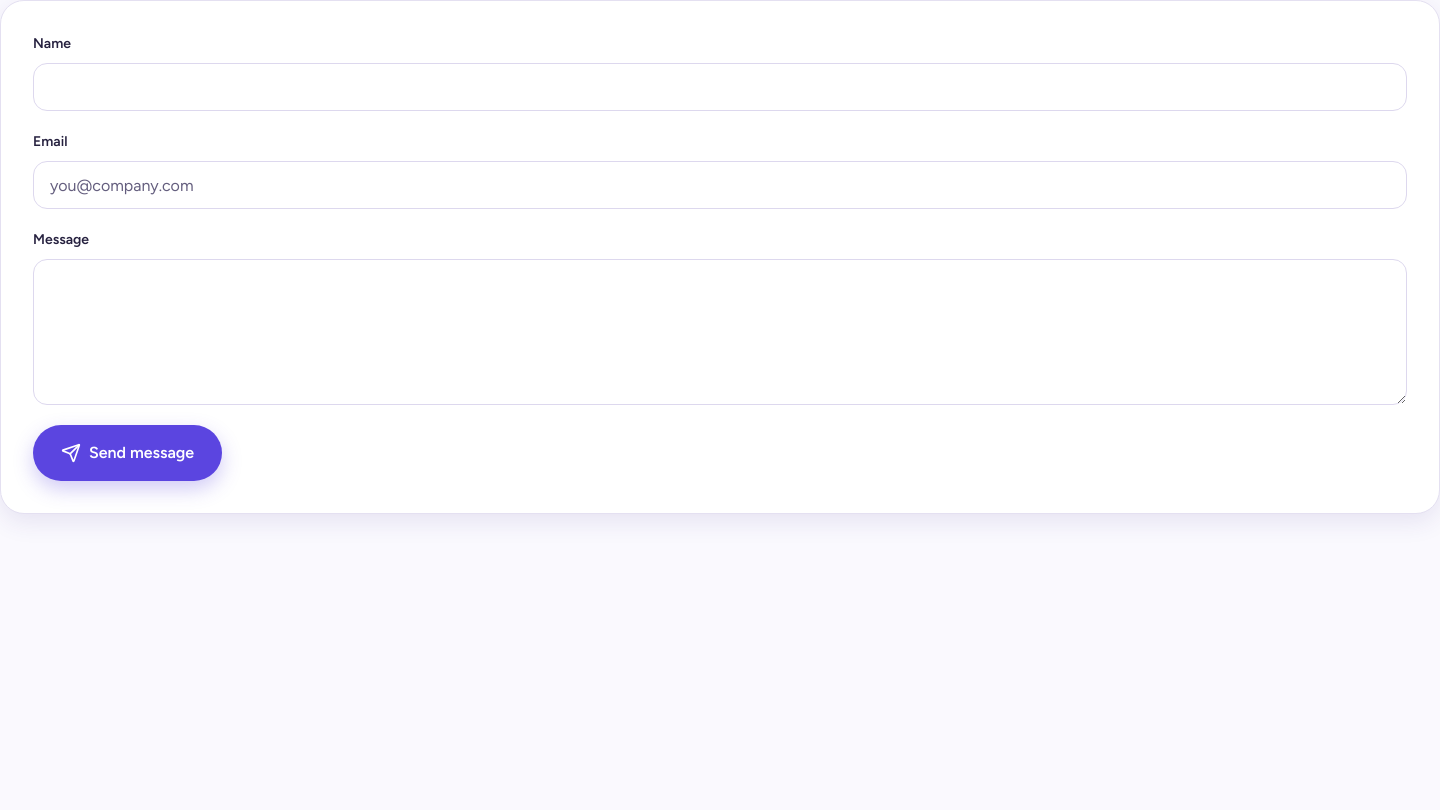
Test case: ContactForm failure notice › uses the server's own words, with no address, when the fuse is blown
In the field labelled "Name": (720, 87) top-left (33, 63), bottom-right (1407, 111), type "Ada"
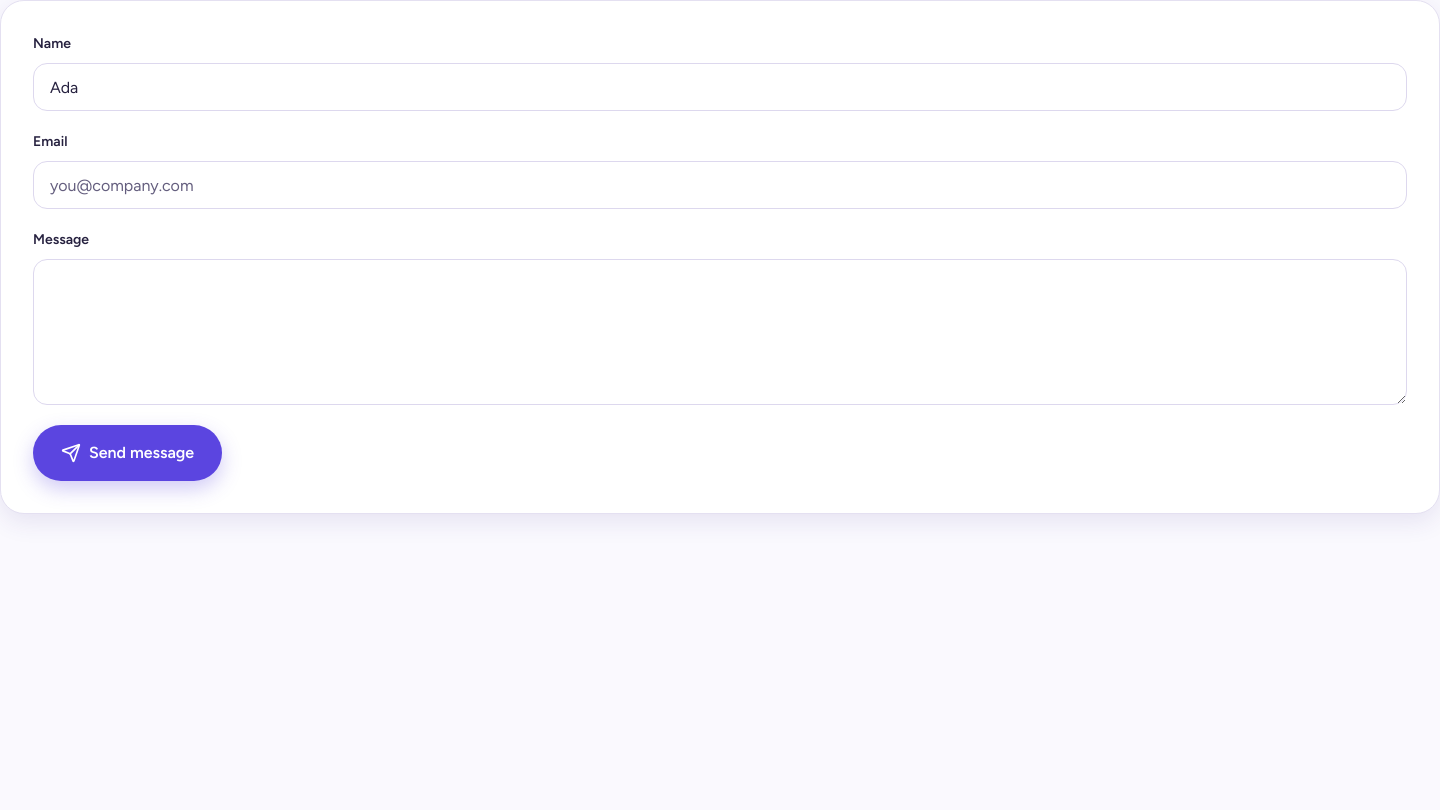
Press x in the field labelled "Name", box top-left (33, 63), bottom-right (1407, 111)
In the field labelled "Email": (720, 185) top-left (33, 161), bottom-right (1407, 209), type "ada@example.com"
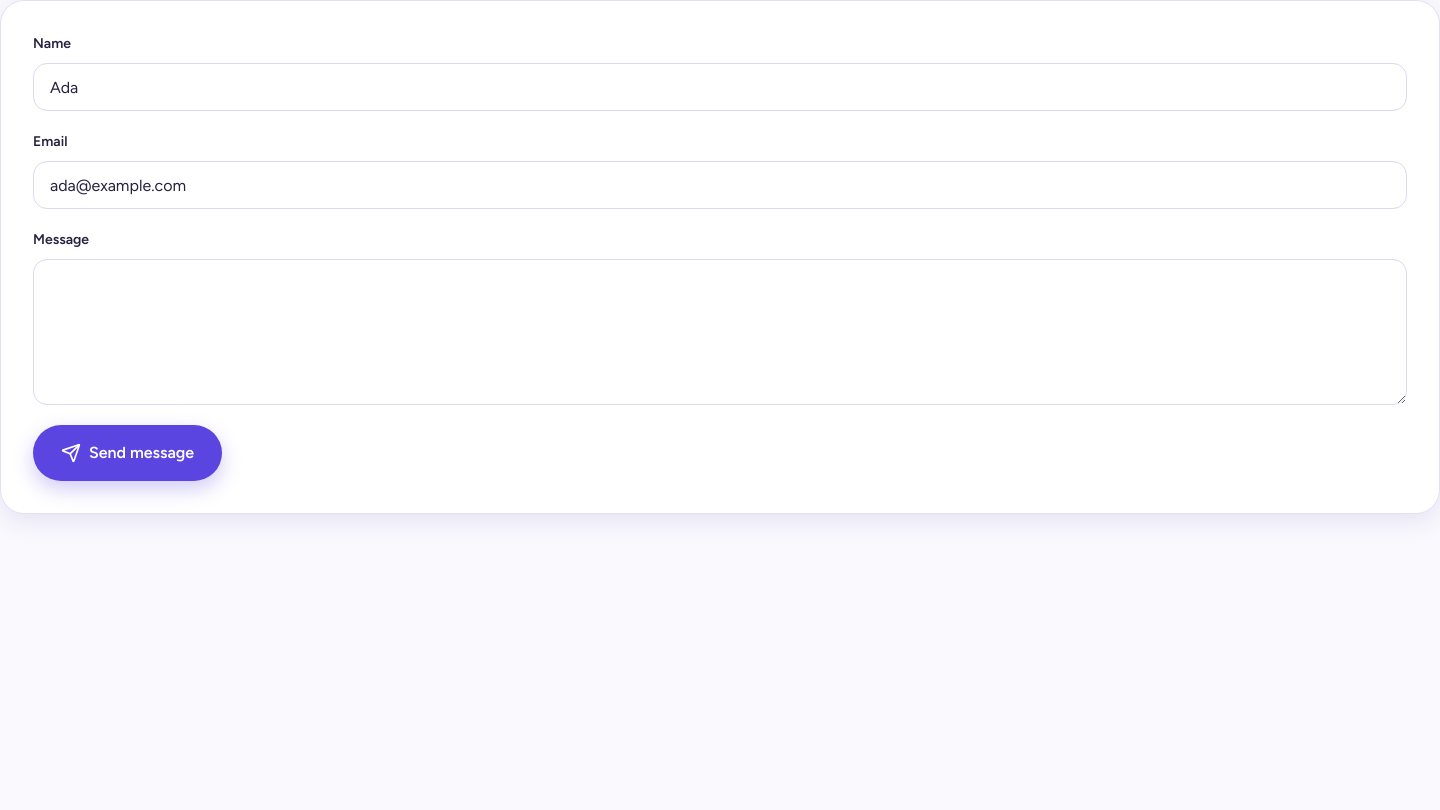
Press x in the field labelled "Email", box top-left (33, 161), bottom-right (1407, 209)
In the text box labelled "Message": (720, 332) top-left (33, 259), bottom-right (1407, 405), type "Hello there"
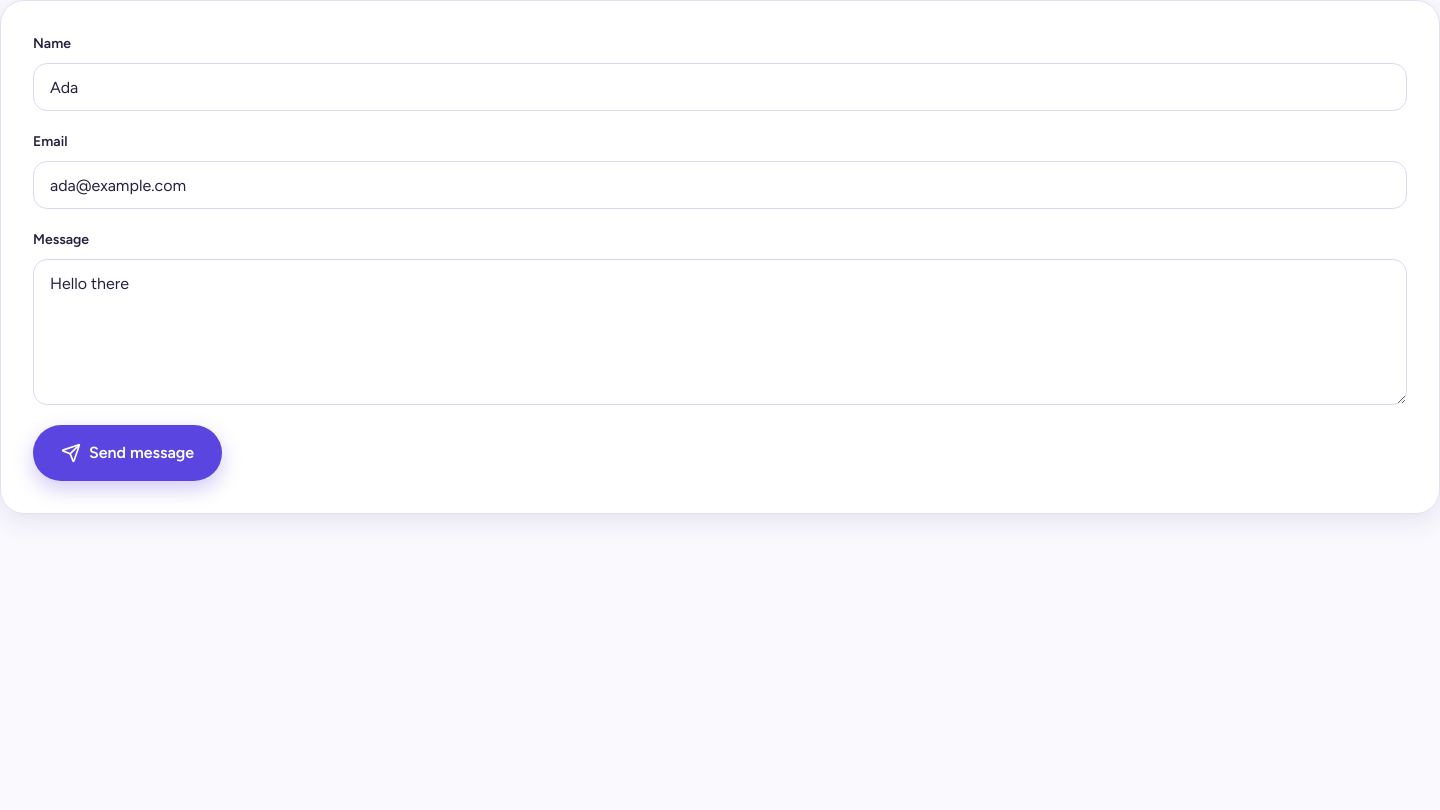
Press x in the text box labelled "Message", box top-left (33, 259), bottom-right (1407, 405)
Submit the form, box top-left (33, 33), bottom-right (1407, 481)
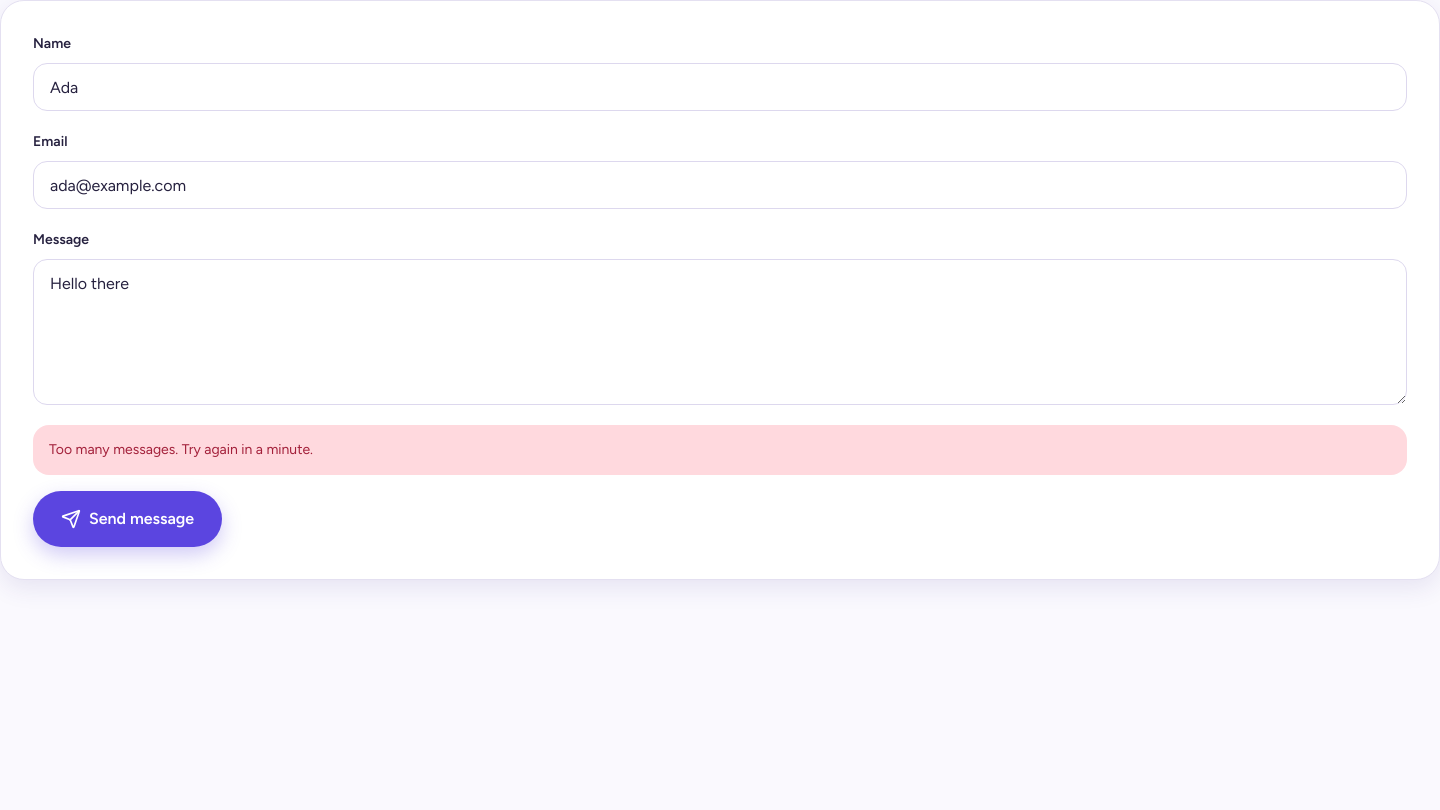
Expected: the message "Too many messages. Try again in a minute." is shown, top-left (33, 425), bottom-right (1407, 475)
